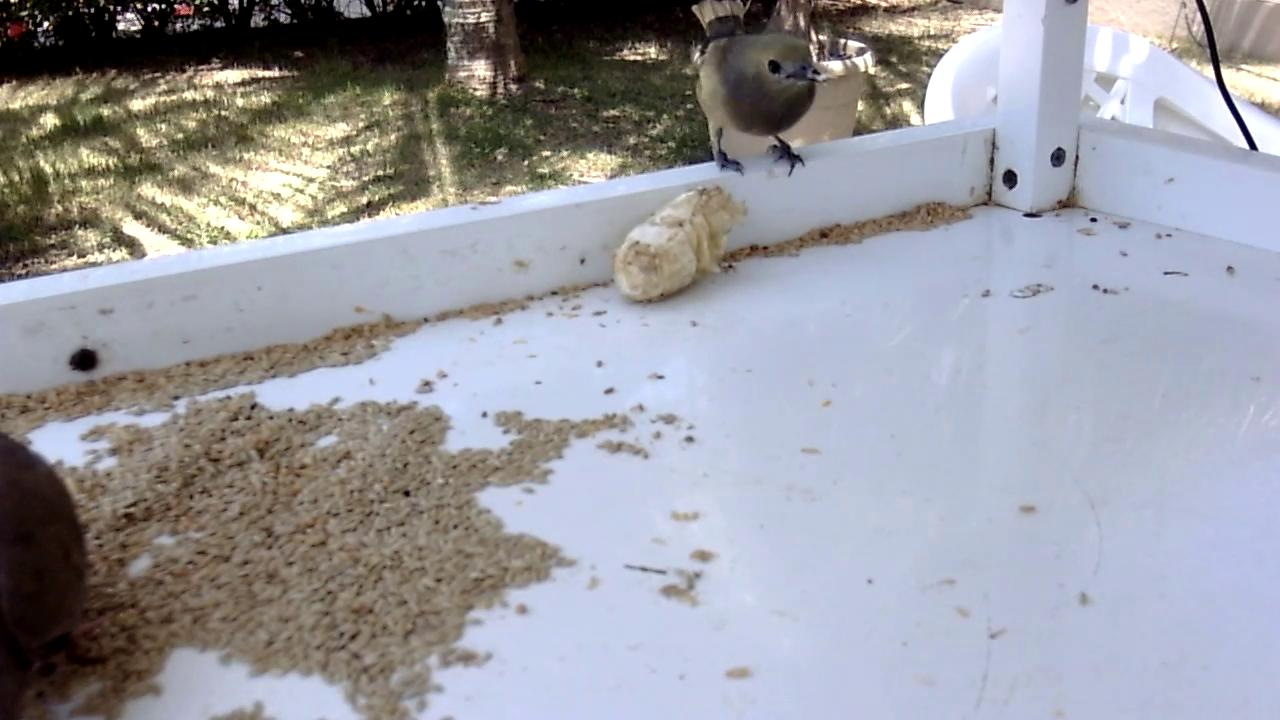sanhaco_do_coqueiro: (691, 1, 827, 179)
